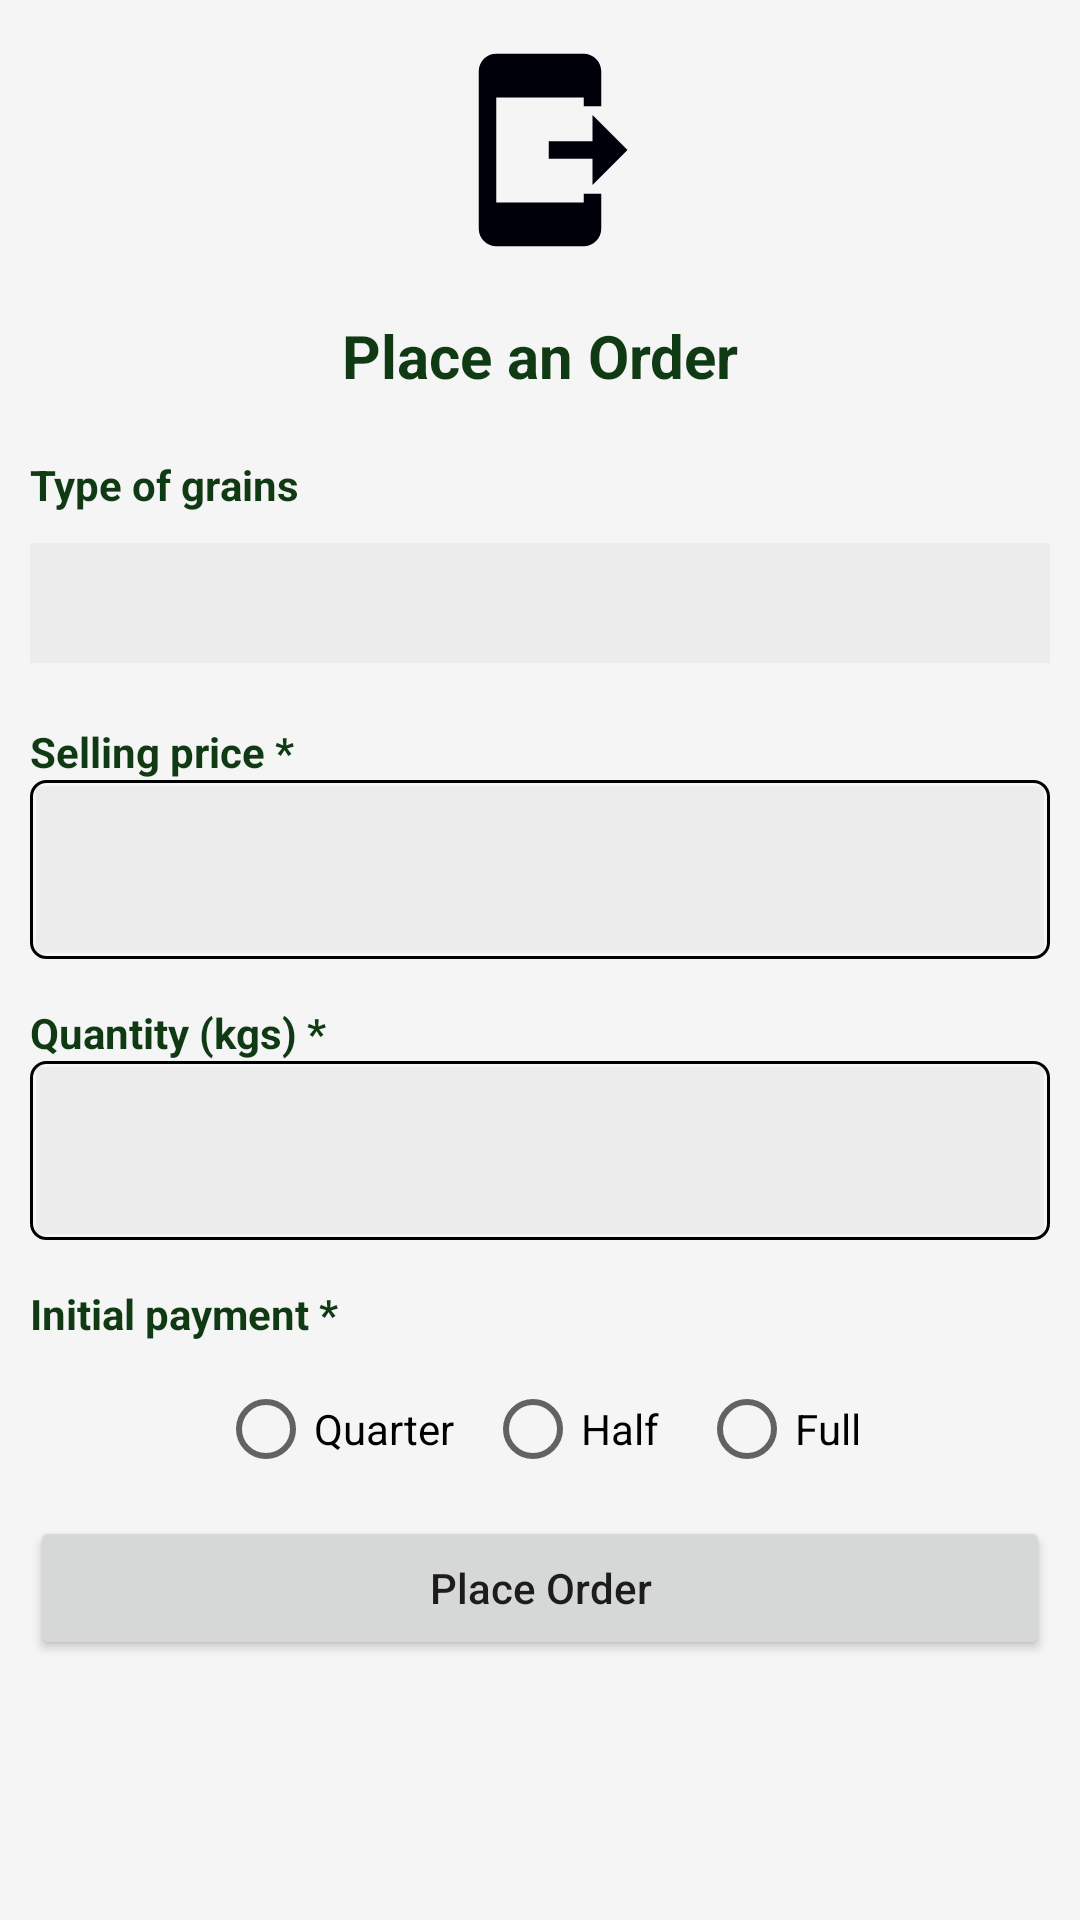

Named icons in this screenshot (1080*1920) and their centers, (x=x, y=y):
phone: (x=553, y=150)
